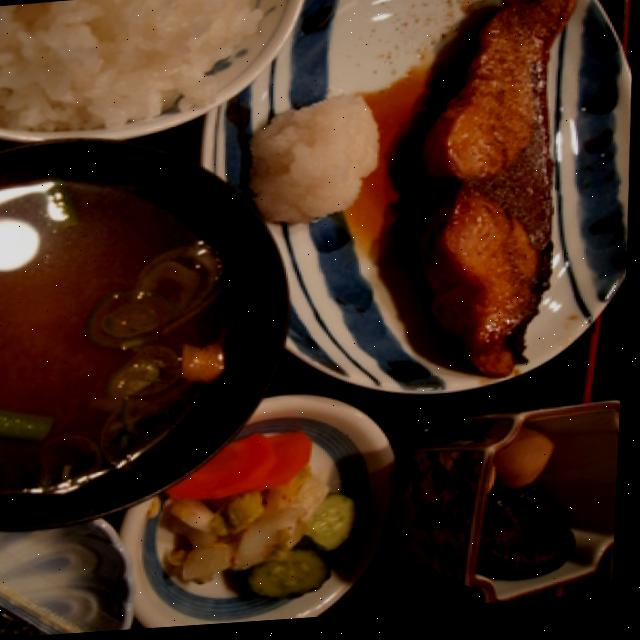熟制海鲜: (370, 0, 612, 400)
